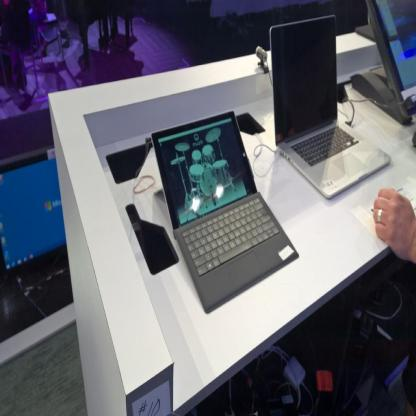board: (150, 117, 297, 311), (270, 14, 390, 200)
